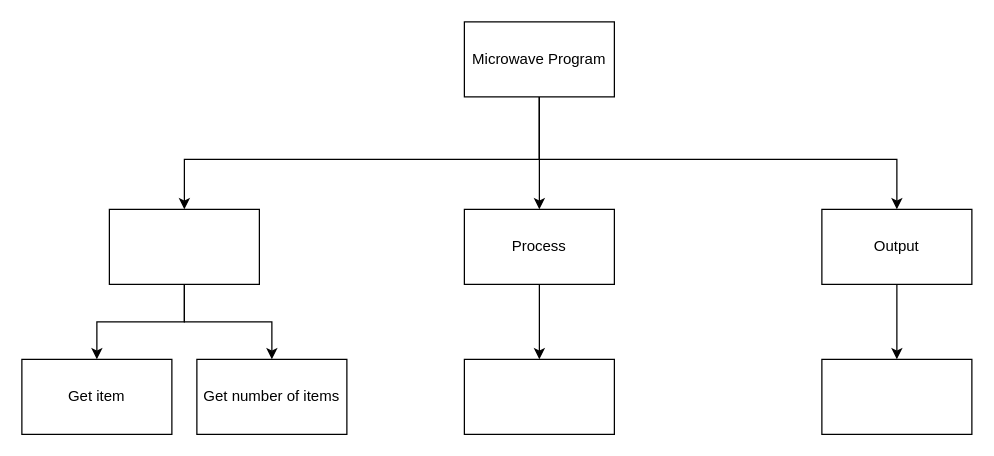
The diagram is 994 pixels wide and 456 high, and some of its shapes have lost their labels. Here are the shapes that lost their labels. From the top down, the centre of each, then its label:
At point (183, 246): "Input".
At point (538, 396): "time = itemTime * percentage".
At point (896, 396): "Show time".
